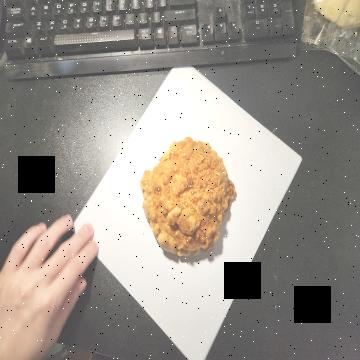soboru_bread: (139, 139, 236, 261)
